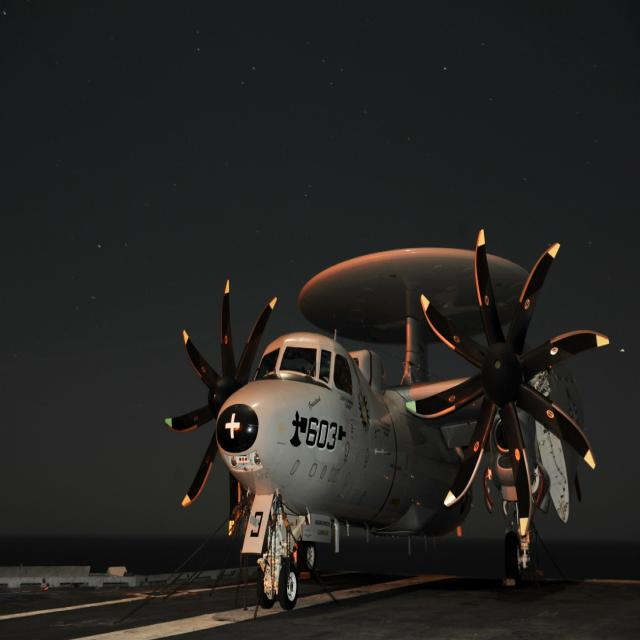MIL_Plane: (189, 254, 583, 584)
